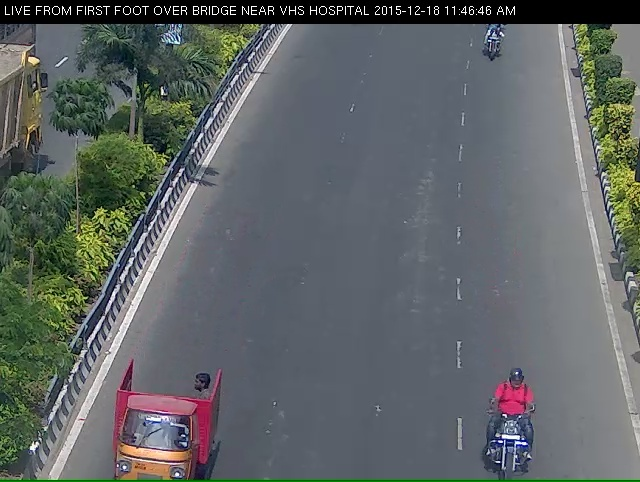Auto: (97, 371, 221, 482)
Person: (452, 392, 551, 481), (479, 17, 512, 72)
